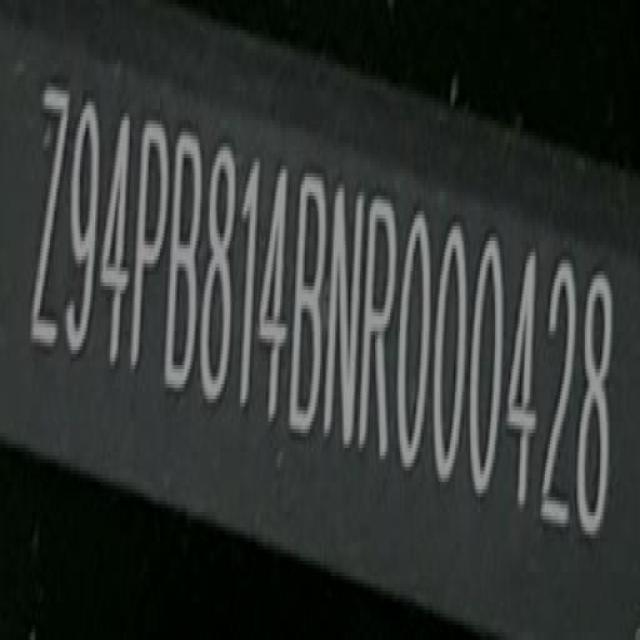0: (390, 207, 436, 473), (463, 232, 508, 503), (428, 222, 471, 490)
1: (232, 153, 260, 415)
2: (536, 254, 580, 532)
4: (500, 242, 546, 518), (94, 105, 140, 373), (254, 168, 296, 423)
8: (571, 266, 621, 541), (198, 138, 240, 400)
9: (62, 98, 105, 366)
B: (162, 125, 208, 391), (289, 168, 333, 435)
N: (321, 179, 369, 450)
P: (126, 115, 170, 381)
R: (359, 191, 404, 467)
Z: (22, 79, 71, 367)
